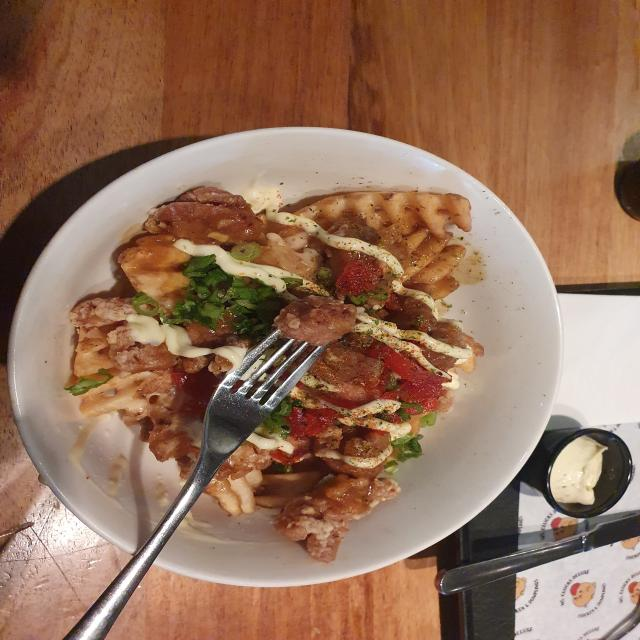Bowl: (518, 426, 634, 518)
Plate: (6, 125, 564, 588)
